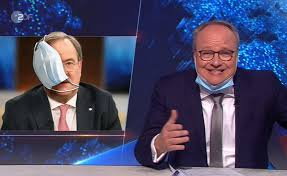mask_weared_incorrect: (37, 44, 82, 96), (198, 36, 236, 95)
